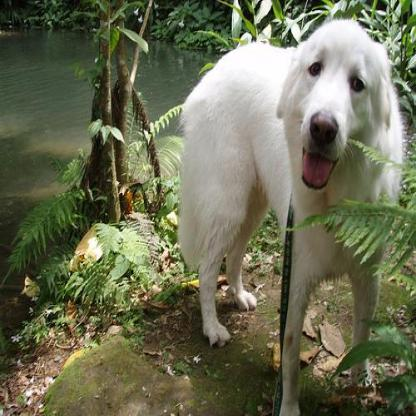Great_Pyrenees: (176, 18, 400, 414)
